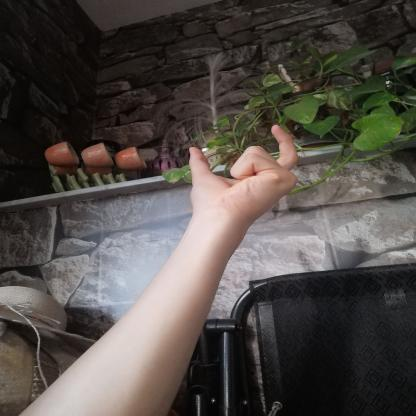NOON: (169, 114, 310, 239)
